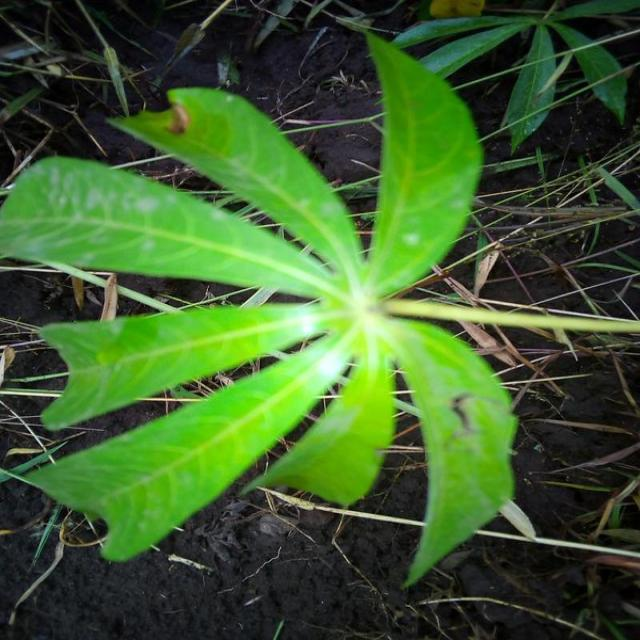cassava leaf: (1, 20, 523, 588)
